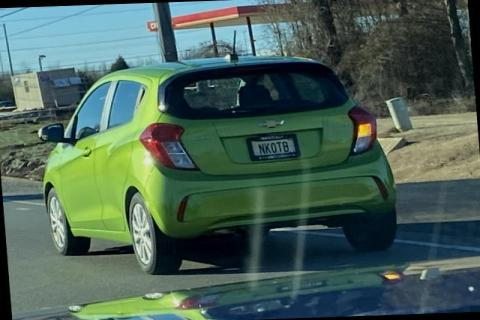LicensePlate: (244, 133, 300, 160)
